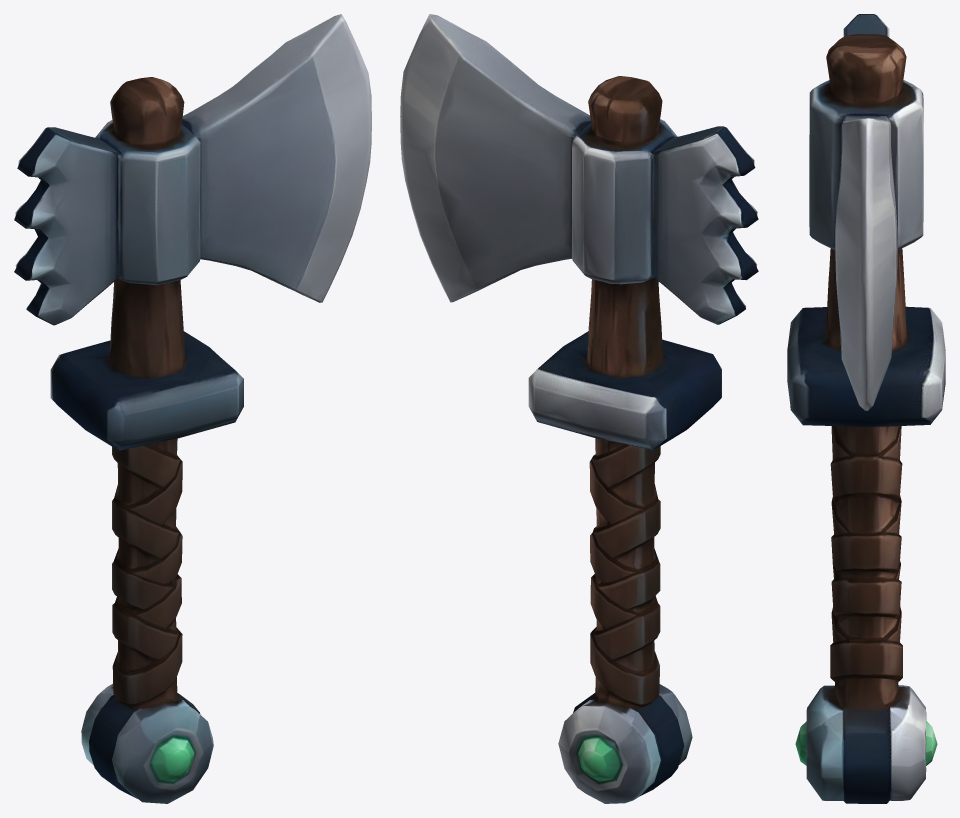
The model's file is w_hunter--axe.glb.
The picture shows the model from 3 angles, left to right: view 1: azimuth 30°, elevation 25°; view 2: azimuth 150°, elevation 25°; view 3: azimuth 270°, elevation 25°; orthographic projection. The views are drawn at different scales.
Parts seen in each view (by area): view 1: Weapon; view 2: Weapon; view 3: Weapon.
Boxes of the visible parts, box(x1,y1,x2,y2) form: Weapon: box(14, 14, 371, 803); Weapon: box(400, 14, 758, 803); Weapon: box(787, 14, 945, 803).
Size of the model in its own units: 0.4946 by 0.9801 by 0.1801.
1 material, 1 textured.
